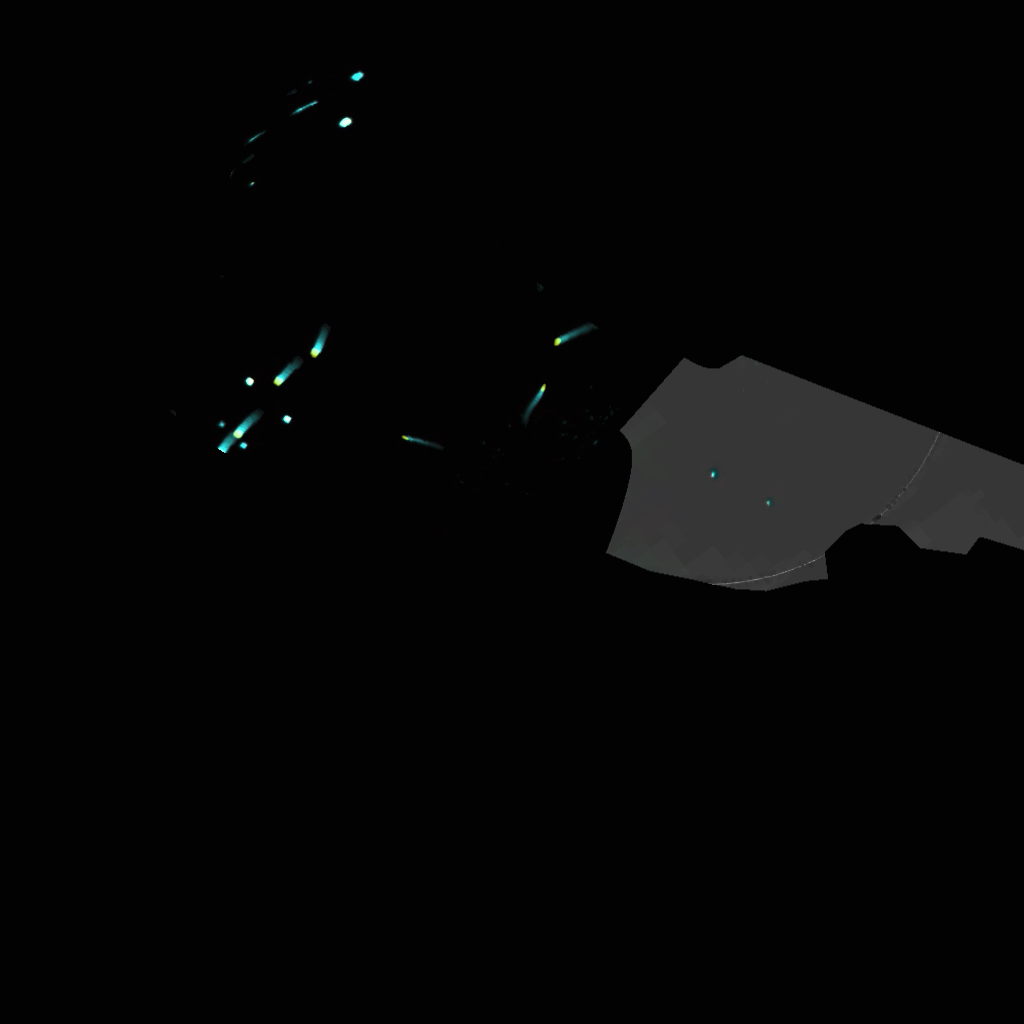B: (549, 328, 598, 347), (395, 429, 432, 448), (309, 325, 330, 357), (274, 360, 300, 384), (531, 380, 548, 415), (233, 415, 262, 433), (213, 431, 237, 451)
